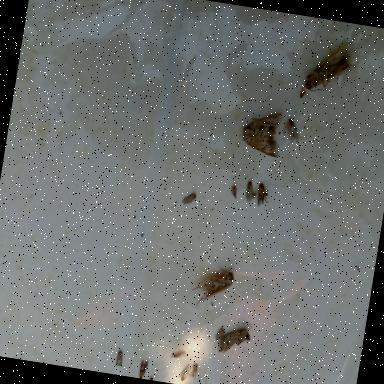abw: (302, 34, 362, 98), (239, 107, 284, 158), (189, 262, 235, 311), (216, 320, 252, 358)
pbw: (282, 118, 302, 144), (255, 183, 272, 208), (244, 182, 255, 204), (180, 364, 192, 383), (181, 192, 196, 206), (138, 360, 148, 379), (114, 350, 124, 367), (172, 349, 186, 359), (214, 328, 224, 341), (191, 363, 198, 381), (230, 186, 237, 200)
